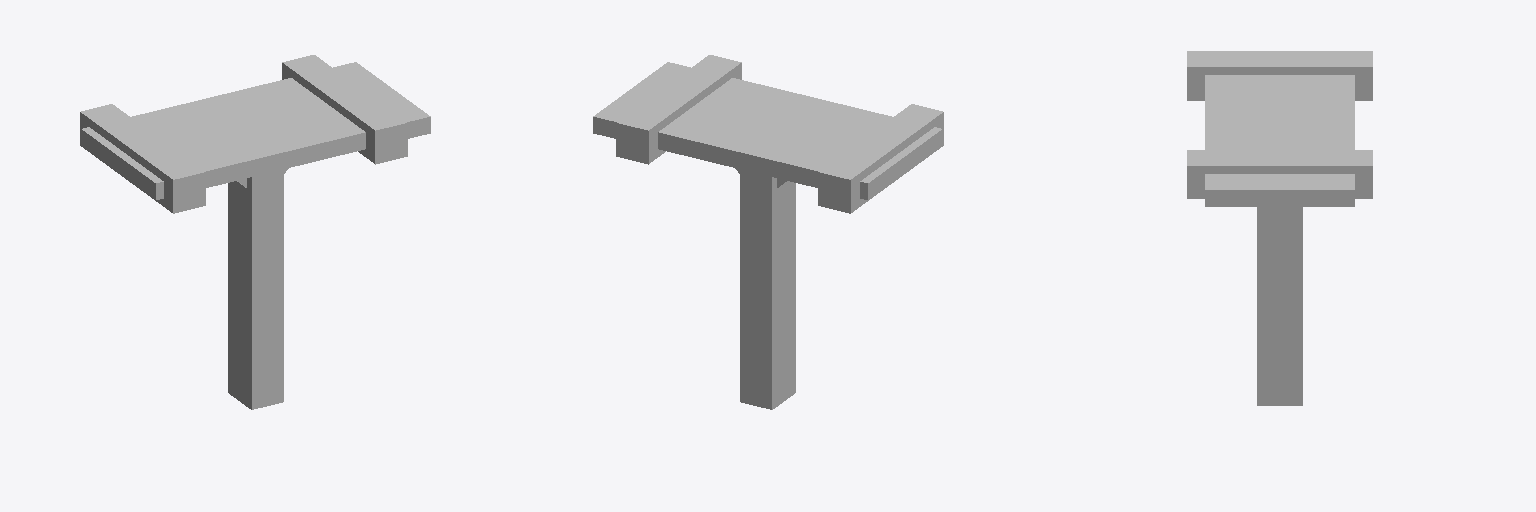
File: overhead_truss_double_hanger_top.obj
The picture shows the model from 3 angles: view 1: azimuth 30°, elevation 25°; view 2: azimuth 150°, elevation 25°; view 3: azimuth 270°, elevation 25°; orthographic projection.
Parts seen in each view (by area): view 1: hanger_base; view 2: hanger_base; view 3: hanger_base.
Part boxes in pixels (left/top/right/bottom): hanger_base: left=80, top=55, right=430, bottom=409; hanger_base: left=593, top=55, right=943, bottom=409; hanger_base: left=1187, top=51, right=1372, bottom=405.
Size of the model in its own units: 1.06 by 1.05 by 0.625.